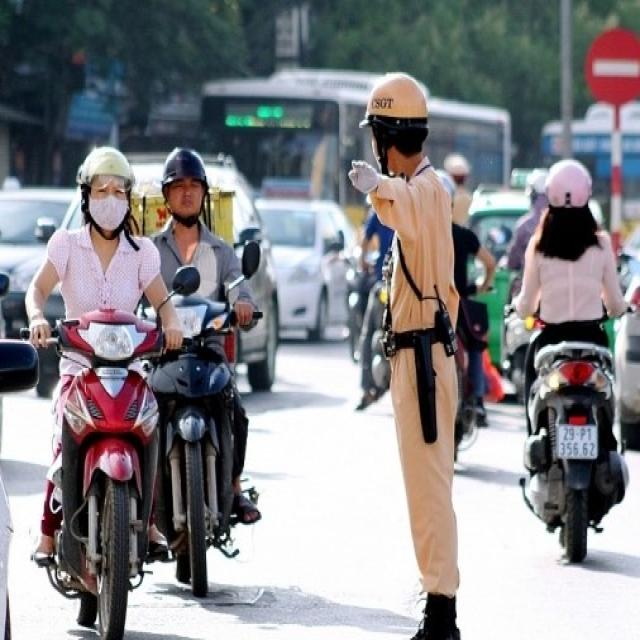1-2-helmet: (360, 74, 429, 129), (80, 145, 135, 192), (163, 148, 209, 188)
